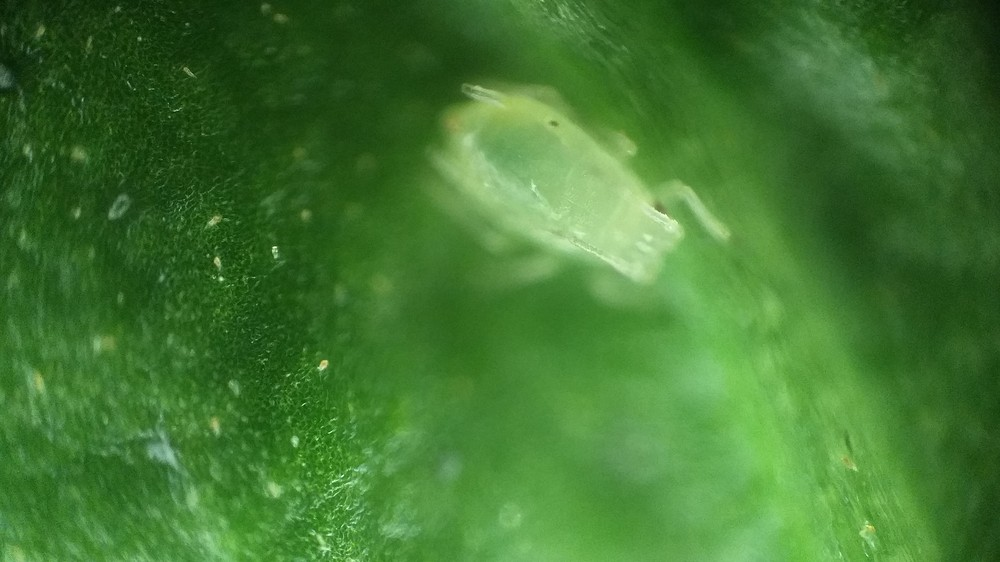Pulgon: (385, 64, 744, 358)
